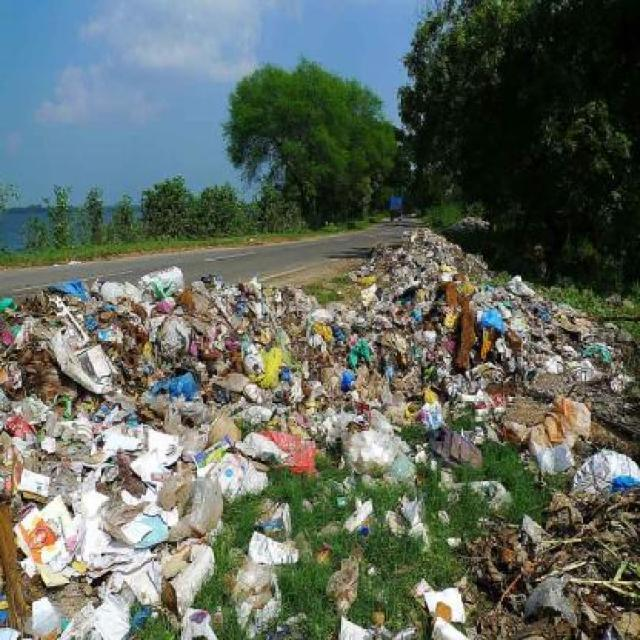garbage: (19, 294, 316, 496), (383, 215, 486, 390), (540, 454, 640, 613), (318, 320, 440, 378)
